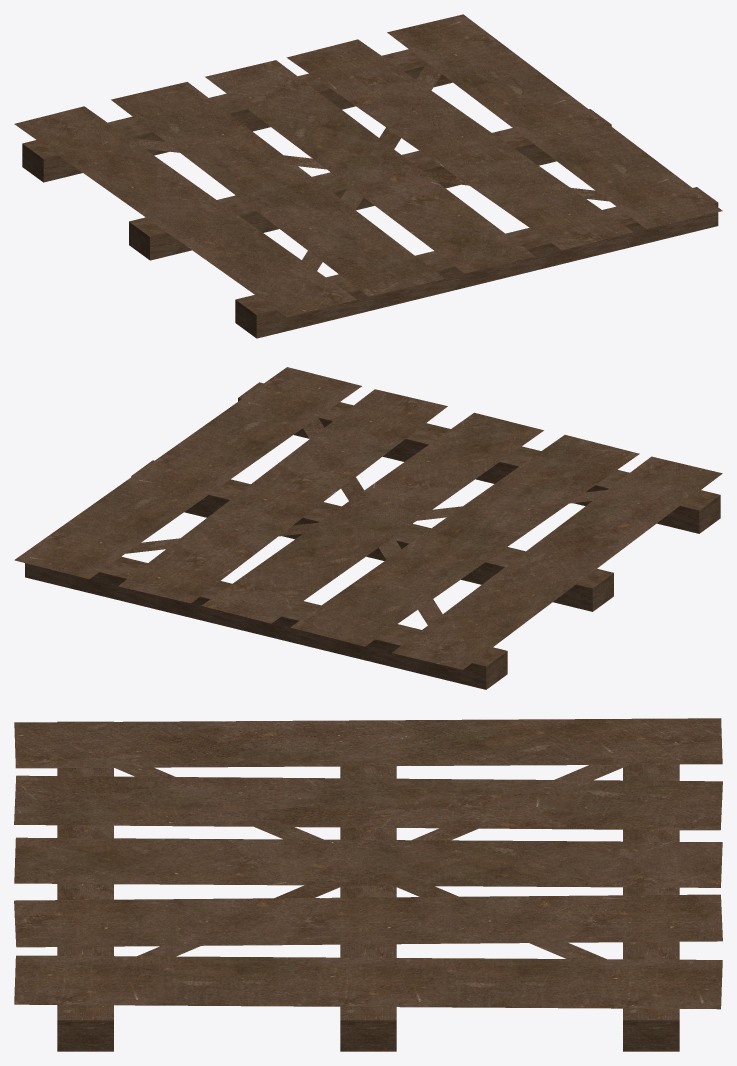
The model's file is thm_tato_imprv_palette_s01_l1.fbx.
3 views of the same model, one above another, from view 1: azimuth 30°, elevation 25°; view 2: azimuth 150°, elevation 25°; view 3: azimuth 270°, elevation 25° (orthographic). The views are drawn at different scales.
Parts seen in each view (by area): view 1: mesh_node; view 2: mesh_node; view 3: mesh_node.
Boxes of the visible parts, <box> form: mesh_node: <box>14,14,722,338</box>; mesh_node: <box>14,367,722,689</box>; mesh_node: <box>14,718,722,1051</box>.
Size of the model in its own units: 2.5 by 0.1539 by 2.51.
Materials: 1 (1 with a texture image).
